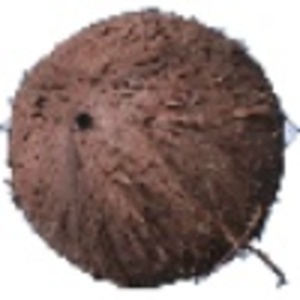coco: (1, 9, 300, 288)
